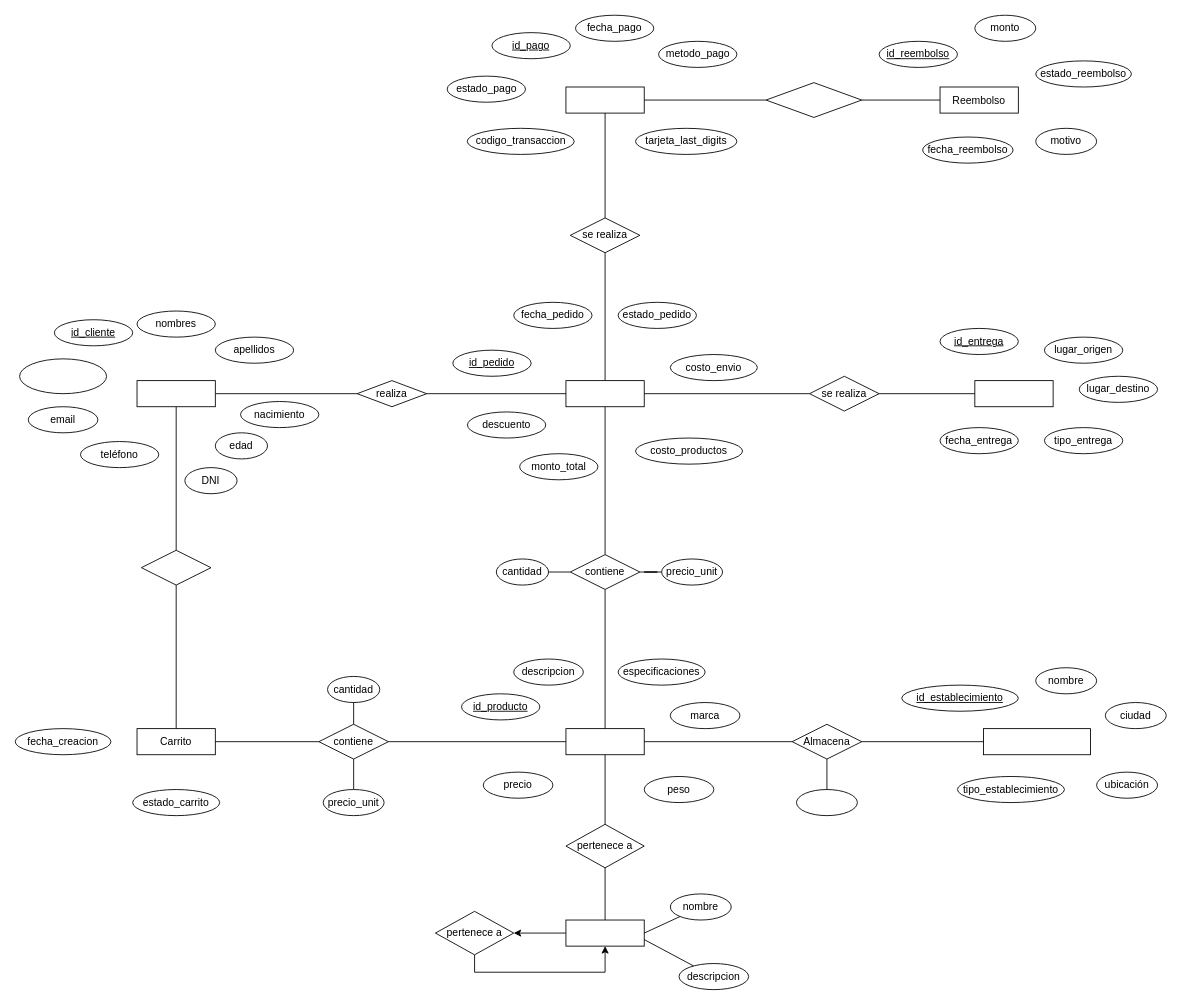
This 1181x1005 diagram has some shape labels left out. The centre of each missing label's shape, as x and y in pixels:
"Categoría" belongs at pixel 604 932.
"Cliente" belongs at pixel 175 393.
"Entrega" belongs at pixel 1013 393.
"Establecimiento" belongs at pixel 1037 741.
"Pago" belongs at pixel 604 99.
"password-hash" belongs at pixel 63 376.
"Pedido" belongs at pixel 604 393.
"Producto" belongs at pixel 604 741.
"puede solicitar" belongs at pixel 813 99.
"stock" belongs at pixel 826 802.
"tiene" belongs at pixel 176 567.
